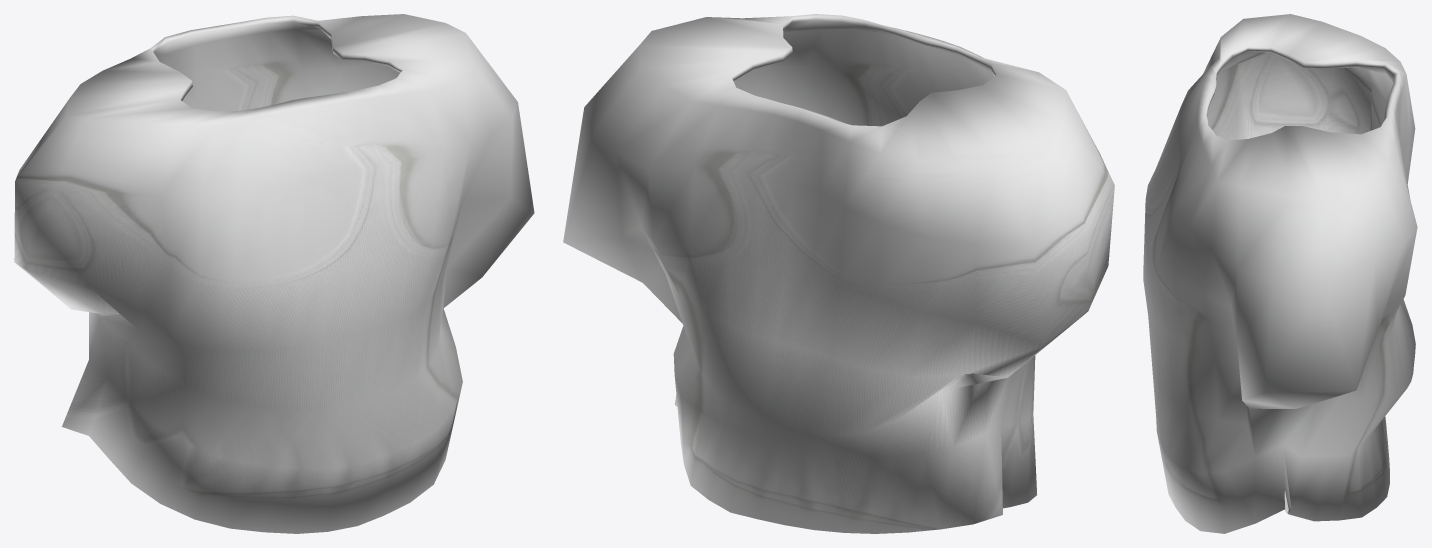
The picture shows the model from 3 angles, left to right: view 1: azimuth 30°, elevation 25°; view 2: azimuth 150°, elevation 25°; view 3: azimuth 270°, elevation 25°; orthographic projection. The views are drawn at different scales.
Parts seen in each view (by area): view 1: garment; view 2: garment; view 3: garment.
Part boxes in pixels (x1=…): garment: x1=14, y1=14, x2=534, y2=533; garment: x1=563, y1=14, x2=1114, y2=533; garment: x1=1143, y1=14, x2=1417, y2=533.
Bounding box in the file's own units: 0.5718 × 0.4732 × 0.3002.
1 material, 1 textured.
